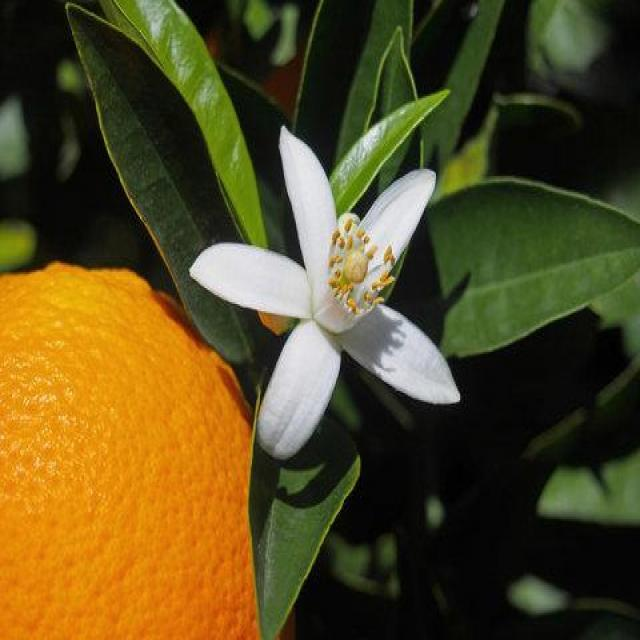Bunga: (185, 120, 468, 452)
Jeruk Sudah Matang: (0, 263, 296, 635)
